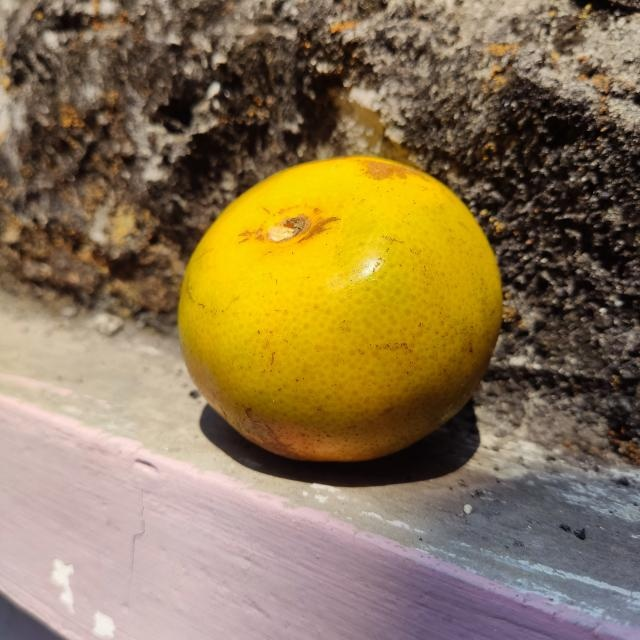agrume: (169, 151, 503, 464)
